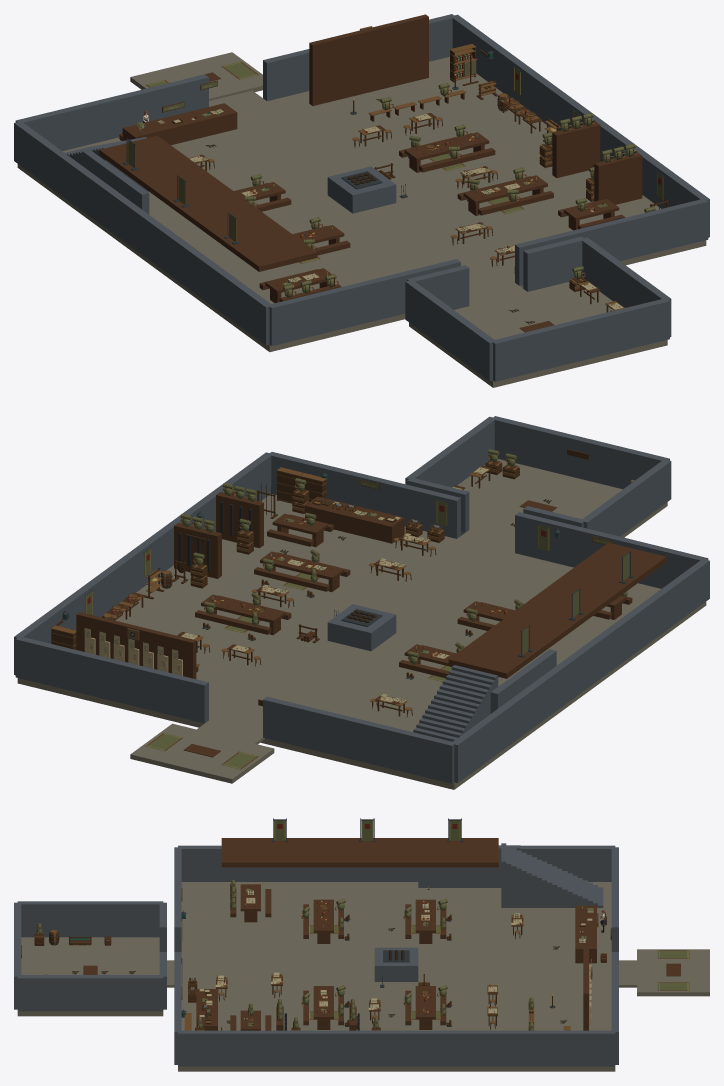
Rendered from guild-live.glb.
3 renders of one model, top to bottom at view 1: azimuth 30°, elevation 25°; view 2: azimuth 150°, elevation 25°; view 3: azimuth 270°, elevation 25°, orthographic. The views are drawn at different scales.
Visible parts, largest first — view 1: Stone paving (×2), North/south right pier (×4), North/south left pier (×4), East/west lower pier (×4), Upper gallery, East/west upper pier (×3), 2 Contract board, Supply rack (×2), Table top (×4), 3 Reception desk, 1 Vestibule, Courtyard north closed (+11 smaller); view 2: Stone paving (×2), North/south left pier (×4), North/south right pier (×3), Upper gallery, East/west upper pier (×4), East/west lower pier (×3), 1 Vestibule, 2 Contract board, Supply rack (×2), Table top (×3), Courtyard north closed, Reporting desk (+15 smaller); view 3: Stone paving (×2), East/west upper pier (×4), East/west lower pier (×4), Upper gallery, Table top (×5), 1 Vestibule, West closed doorway, Courtyard west closed, Courtyard east closed, Memorial wall, North/south right pier (×2), North/south left pier (×2) (+9 smaller).
Part boxes in pixels (left/top/right/bottom): Stone paving (×2): left=17, top=56, right=706, bottom=387; North/south right pier (×4): left=15, top=74, right=553, bottom=381; North/south left pier (×4): left=263, top=14, right=708, bottom=353; East/west lower pier (×4): left=14, top=14, right=612, bottom=337; Upper gallery: left=99, top=135, right=317, bottom=271; East/west upper pier (×3): left=157, top=119, right=709, bottom=381; 2 Contract board: left=309, top=14, right=428, bottom=105; Supply rack (×2): left=552, top=122, right=642, bottom=204; Table top (×4): left=265, top=132, right=619, bottom=293; 3 Reception desk: left=122, top=103, right=237, bottom=144; 1 Vestibule: left=130, top=52, right=262, bottom=100; Courtyard north closed: left=549, top=312, right=611, bottom=367; Stone paving (×2): left=17, top=459, right=706, bottom=789; North/south left pier (×4): left=15, top=416, right=552, bottom=723; North/south right pier (×3): left=263, top=444, right=708, bottom=783; Upper gallery: left=448, top=542, right=666, bottom=678; East/west upper pier (×4): left=157, top=416, right=709, bottom=678; East/west lower pier (×3): left=14, top=502, right=612, bottom=783; 1 Vestibule: left=130, top=723, right=274, bottom=783; 2 Contract board: left=76, top=612, right=196, bottom=678; Supply rack (×2): left=174, top=492, right=263, bottom=578; Table top (×3): left=201, top=513, right=344, bottom=623; Courtyard north closed: left=549, top=430, right=611, bottom=485; Reporting desk: left=305, top=496, right=404, bottom=543; Stone paving (×2): left=17, top=882, right=615, bottom=1071; East/west upper pier (×4): left=17, top=845, right=367, bottom=1066; East/west lower pier (×4): left=119, top=845, right=615, bottom=1066; Upper gallery: left=221, top=838, right=498, bottom=867; Table top (×5): left=240, top=884, right=435, bottom=1019; 1 Vestibule: left=637, top=949, right=709, bottom=996; West closed doorway: left=367, top=1030, right=425, bottom=1066; Courtyard west closed: left=61, top=975, right=119, bottom=1011; Courtyard east closed: left=61, top=901, right=119, bottom=937; Memorial wall: left=418, top=845, right=520, bottom=887; North/south right pier (×2): left=174, top=847, right=618, bottom=951; North/south left pier (×2): left=174, top=952, right=618, bottom=1064.
Size of the model in its own units: 30.5 by 5.86 by 47.75.
Materials: 36 (13 with a texture image).
